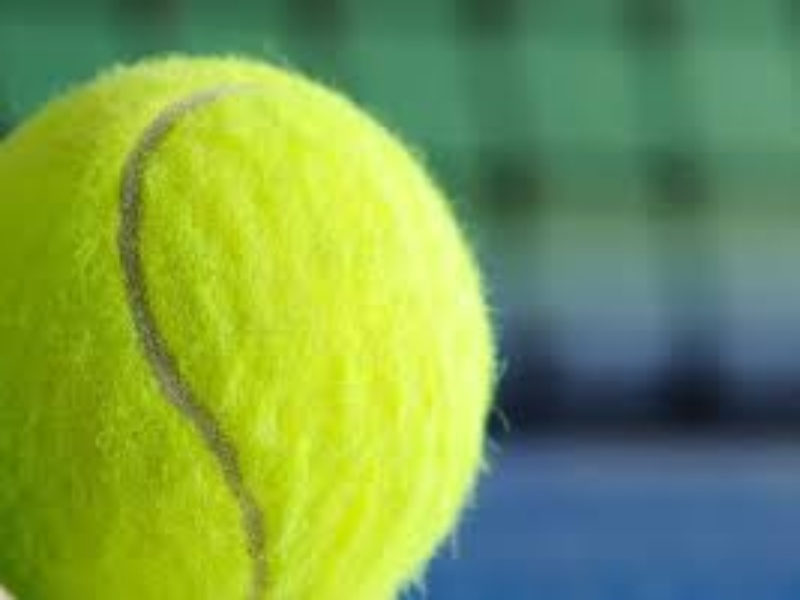tennis ball: (4, 44, 497, 600)
